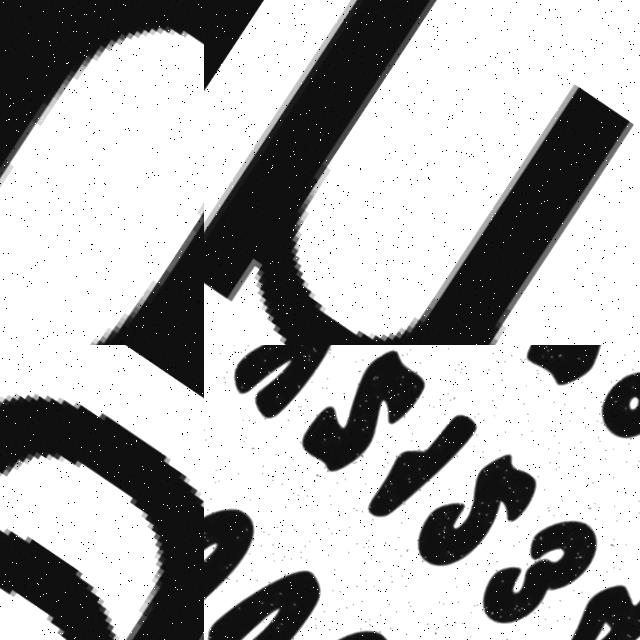0: (0, 0, 204, 345)
1: (319, 375, 499, 563)
2: (370, 421, 565, 618)
3: (430, 476, 630, 640)
4: (472, 518, 640, 640)
7: (475, 345, 640, 442)
8: (540, 345, 640, 503)
G: (0, 345, 204, 640)
M: (204, 0, 640, 345)
